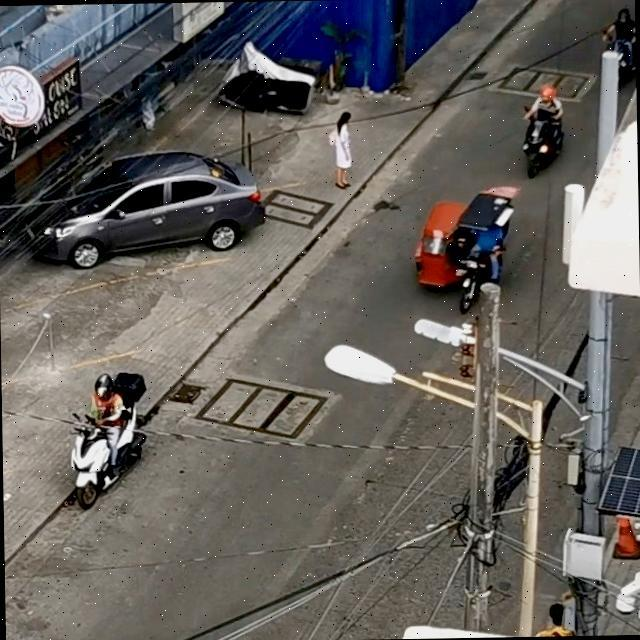Tricycle: (411, 186, 517, 300)
